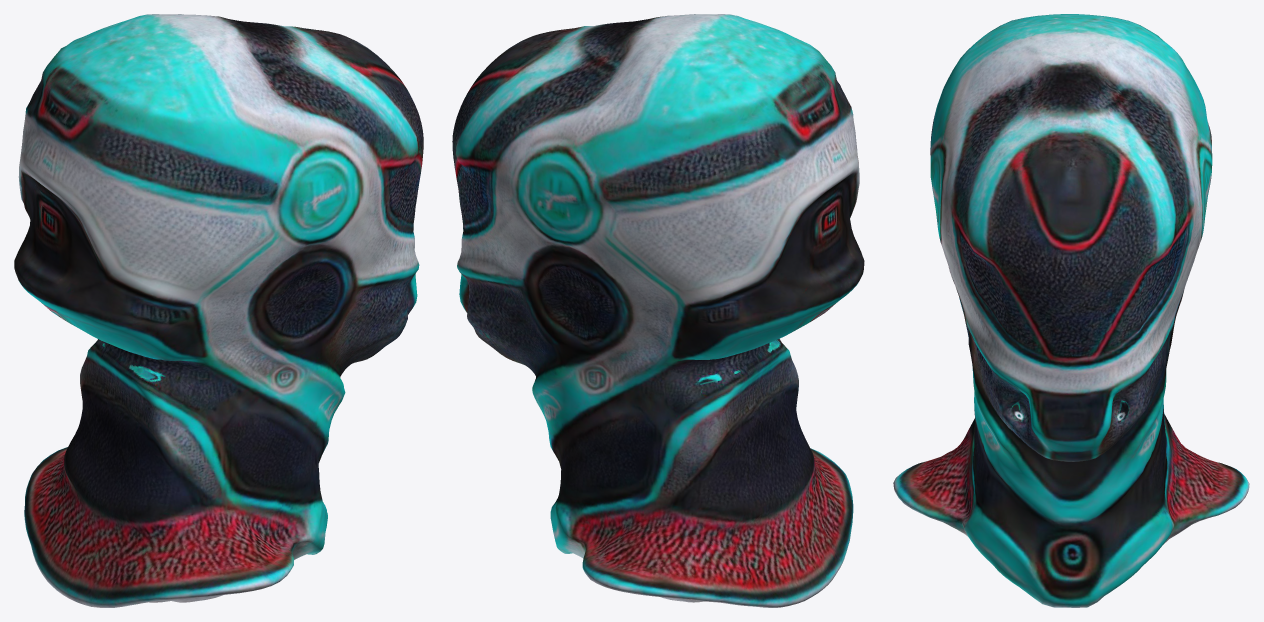
File: mask3.glb
3 views of the same model, side by side, from view 1: azimuth 30°, elevation 25°; view 2: azimuth 150°, elevation 25°; view 3: azimuth 270°, elevation 25° (orthographic). The views are drawn at different scales.
Parts seen in each view (by area): view 1: mesh; view 2: mesh; view 3: mesh.
Boxes of the visible parts, x1=… form: mesh: x1=14, y1=14, x2=423, y2=607; mesh: x1=452, y1=14, x2=864, y2=607; mesh: x1=893, y1=14, x2=1249, y2=607.
Size of the model in its own units: 0.7147 by 0.9997 by 0.6069.
1 material, 1 textured.
